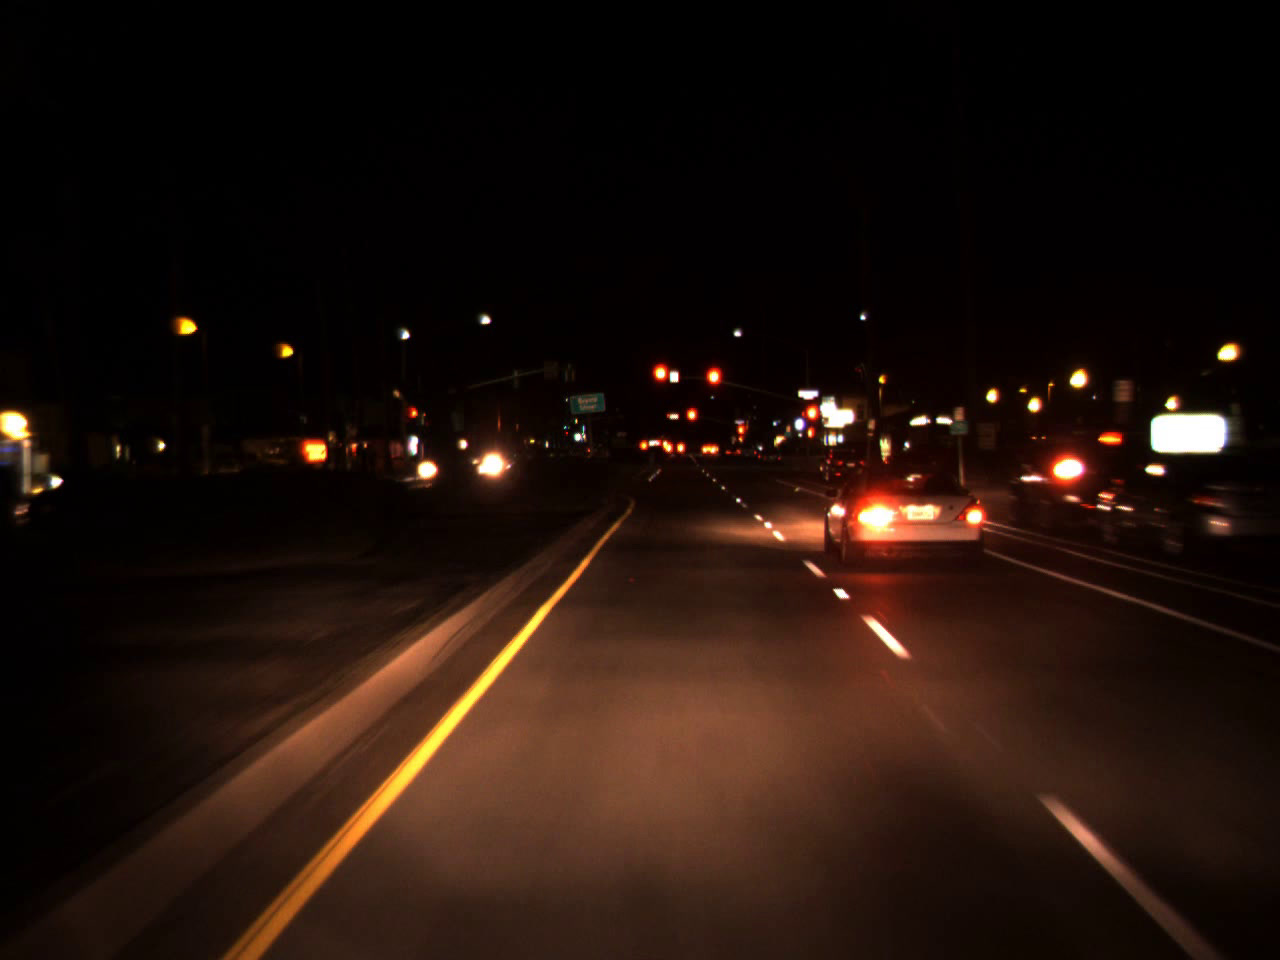stop: (650, 361, 671, 401), (703, 364, 722, 407), (803, 402, 821, 439), (736, 419, 748, 455), (685, 405, 698, 437), (408, 405, 420, 432)
